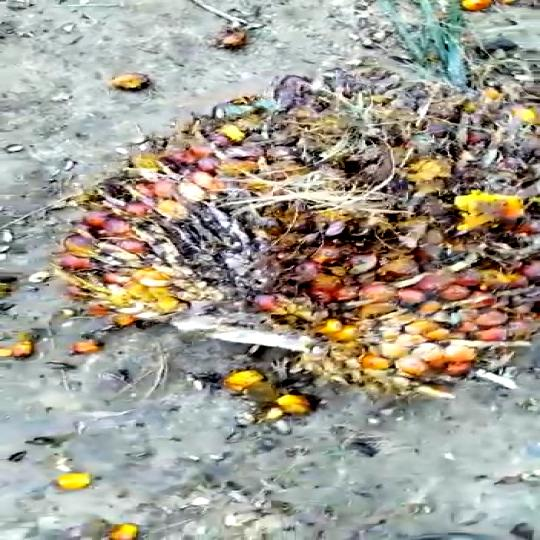masak: (68, 49, 540, 423)
